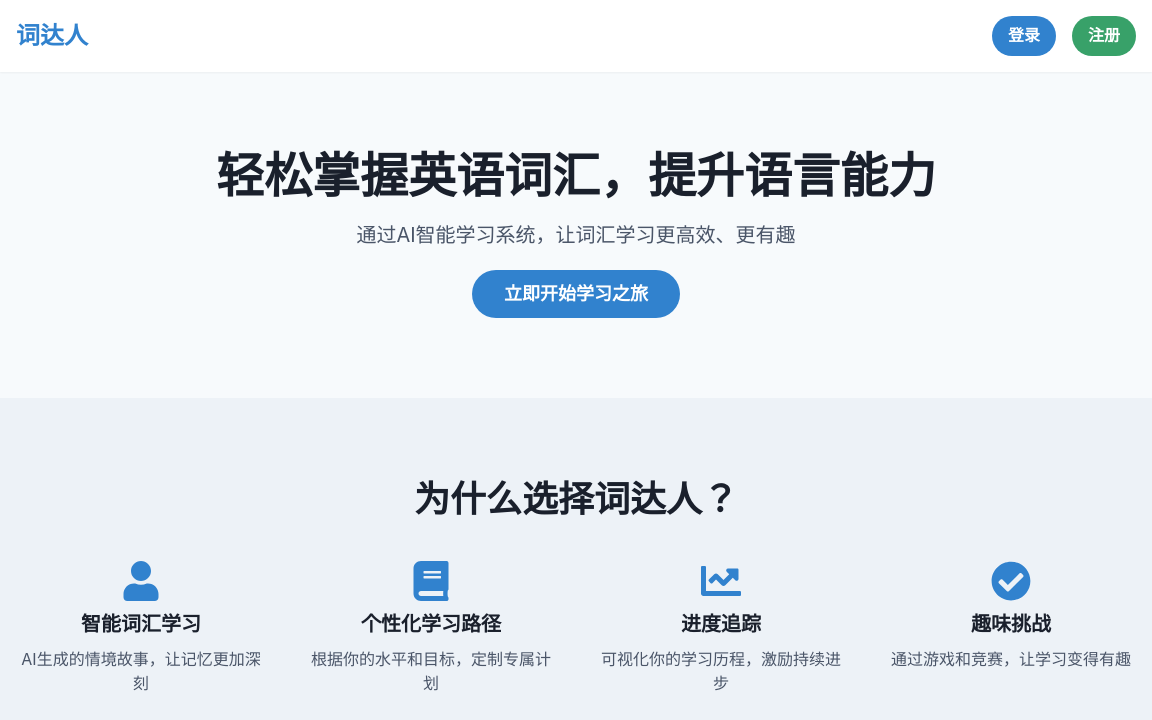
it: HomePage › navigates to sign in page when sign in button is clicked
The image size is (1152, 720).
Click the link "登录". click: (1024, 36)
box: [992,16,1056,56]
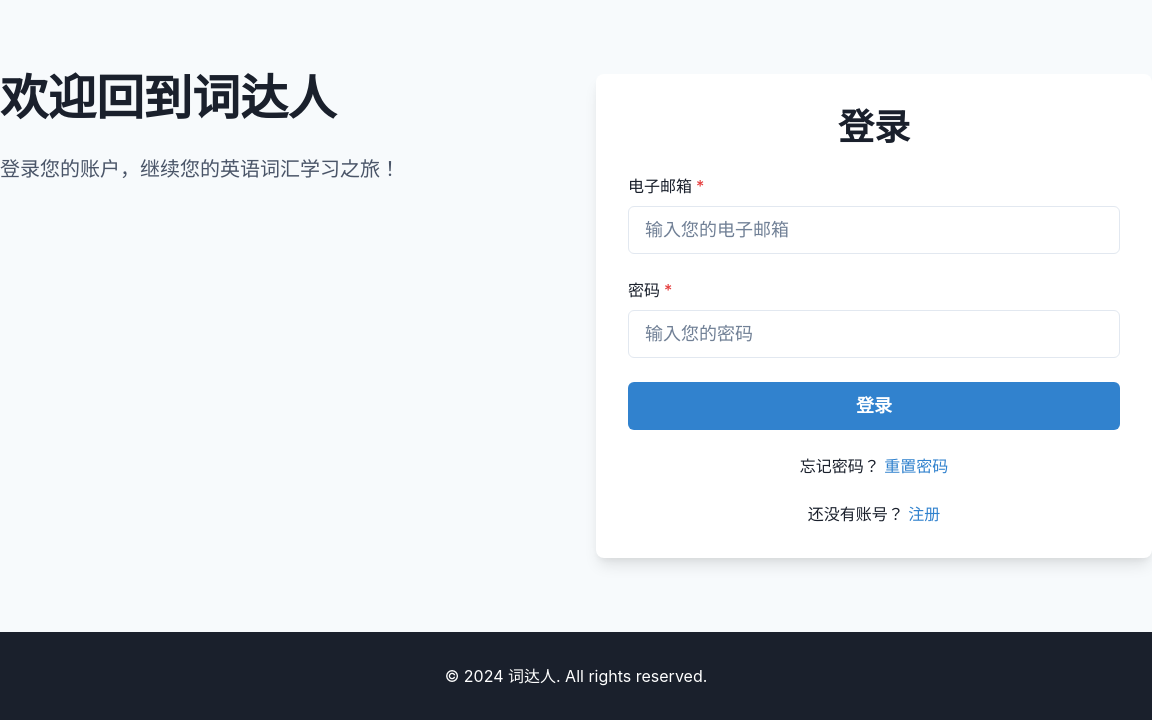
Now the heading "欢迎回到词达人" is shown, box [0,74,336,122]
